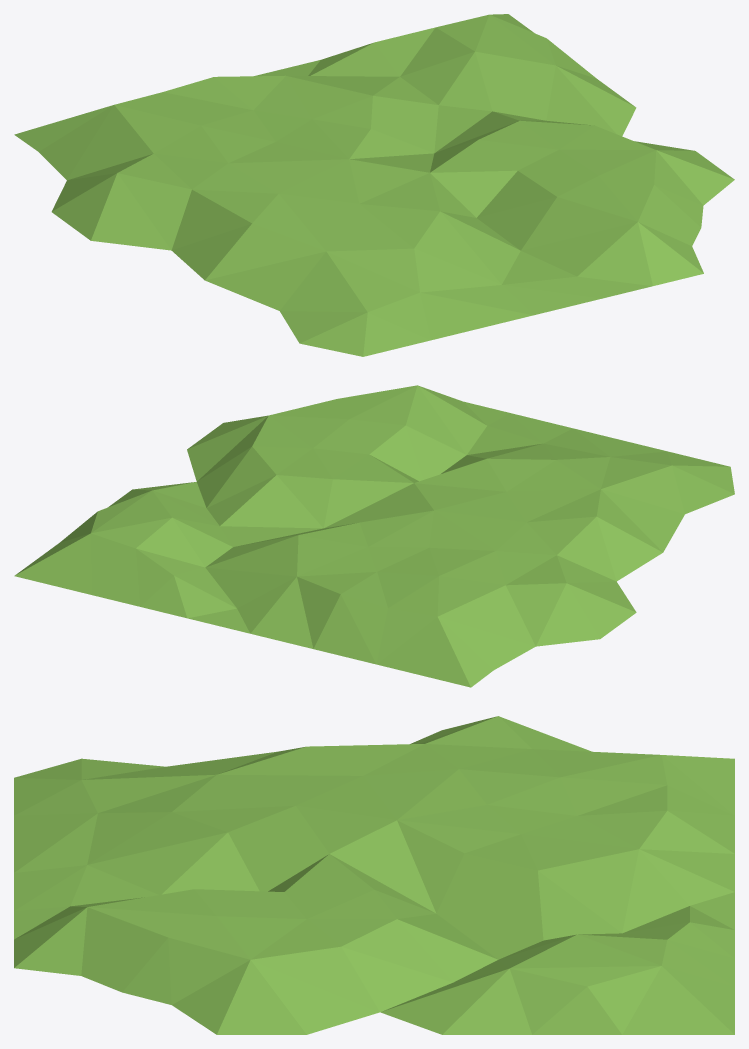
The model's file is MT_Mountain_S_c_22.fbx.
The picture shows the model from 3 angles, top to bottom: view 1: azimuth 30°, elevation 25°; view 2: azimuth 150°, elevation 25°; view 3: azimuth 270°, elevation 25°; orthographic projection. The views are drawn at different scales.
Parts seen in each view (by area): view 1: MT_Mountain_S_c_22; view 2: MT_Mountain_S_c_22; view 3: MT_Mountain_S_c_22.
Part boxes in pixels (x1,y1,x2,y2): MT_Mountain_S_c_22: (14, 14, 734, 356); MT_Mountain_S_c_22: (14, 385, 734, 687); MT_Mountain_S_c_22: (14, 716, 734, 1034).
Size of the model in its own units: 2500 by 170 by 2500.
